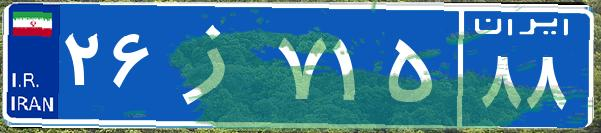1: (330, 28, 385, 110)
2: (57, 26, 110, 107)
5: (385, 28, 445, 110)
6: (110, 28, 158, 105)
7: (273, 28, 330, 110)
8: (475, 38, 525, 113), (525, 38, 570, 115)
ز: (158, 15, 273, 115)
